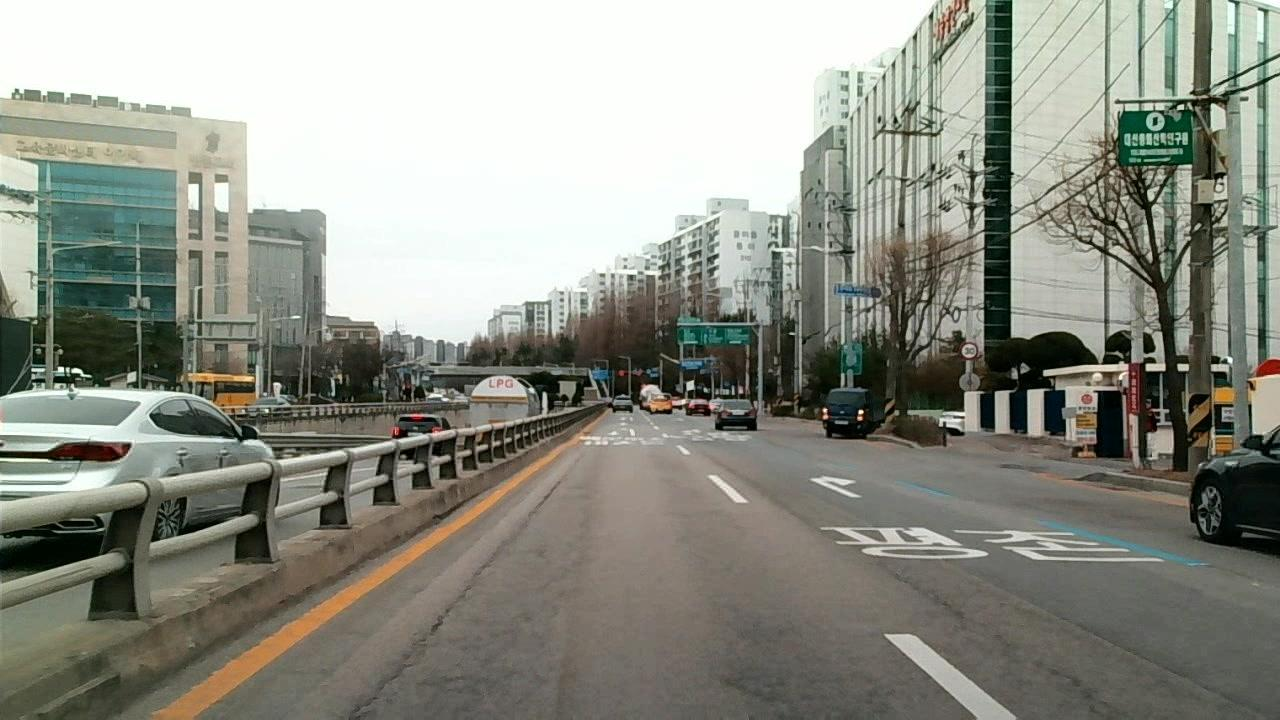vcrack: (338, 603, 451, 720), (995, 638, 1135, 720), (978, 568, 1099, 638), (1145, 647, 1242, 715), (452, 520, 521, 600), (874, 554, 962, 616), (525, 464, 573, 520)
